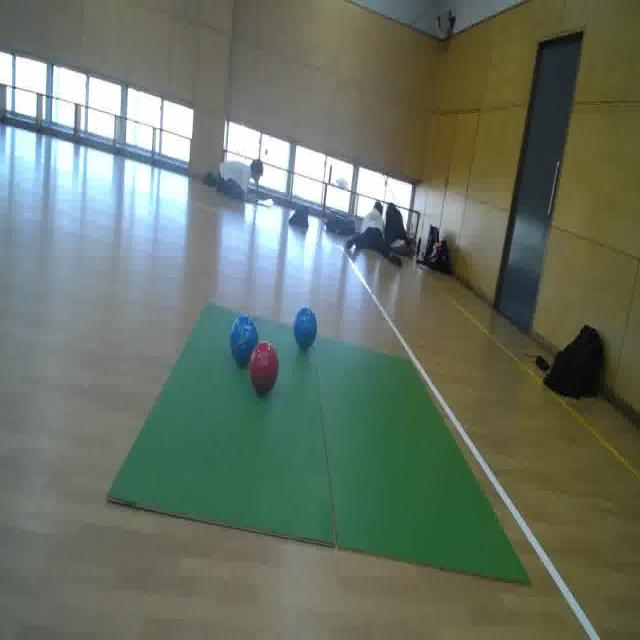blue_ball: (230, 315, 260, 367), (294, 303, 318, 356)
red_ball: (248, 339, 279, 399)
